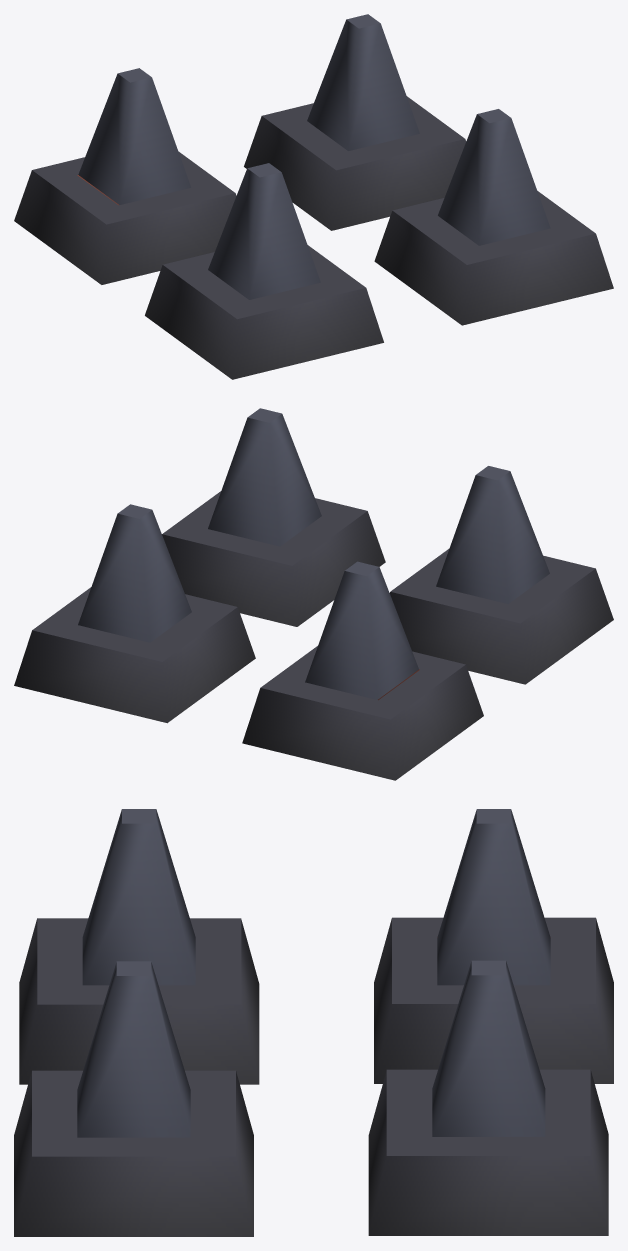
File: trap.glb
3 renders of one model, top to bottom at view 1: azimuth 30°, elevation 25°; view 2: azimuth 150°, elevation 25°; view 3: azimuth 270°, elevation 25°, orthographic. The views are drawn at different scales.
Parts seen in each view (by area): view 1: trap, spikes; view 2: trap, spikes; view 3: trap, spikes.
Boxes of the visible parts, x1,y1,x2,y2 form: trap: (14,96,613,379); spikes: (78,14,550,299); trap: (14,491,613,780); spikes: (78,408,549,699); trap: (14,917,613,1236); spikes: (77,809,550,1137).
Bounding box in the file's own units: 0.6392 × 0.255 × 0.6375.
Materials: 1 (1 with a texture image).
